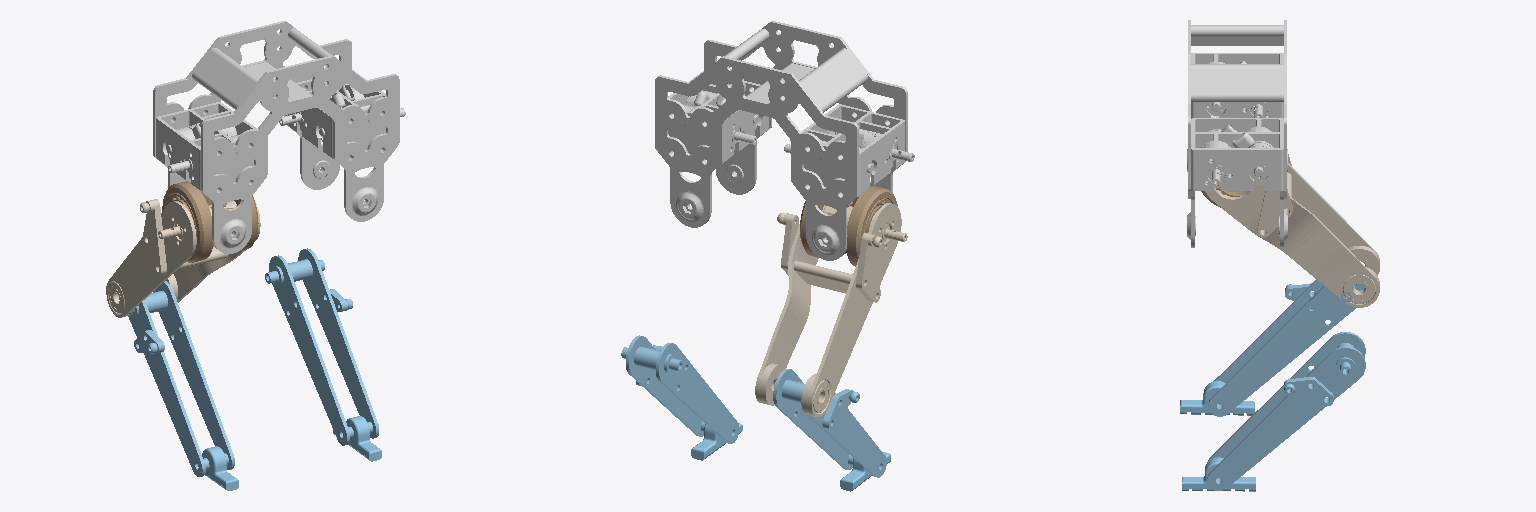
URDF robot description (urdf):
<?xml version="1.0" ?>
<!-- Generated using onshape-to-robot -->
<!-- Onshape document_id: 4743a97557c0a80d1585b0a7 / workspace_id: 2d6986bf76e2e55acb049bf2 -->
<robot name="urdf">
  <!-- Link trunk -->
  <link name="trunk">
    <inertial>
      <origin xyz="8.93209e-17 -0.0322521 -0.0255515" rpy="0 0 0"/>
      <mass value="0.50738"/>
      <inertia ixx="0.000361696" ixy="-6.30203e-08" ixz="-4.36525e-07" iyy="0.00154489" iyz="8.81145e-09" izz="0.00155102"/>
    </inertial>
    <!-- Part trunk_parts -->
    <visual>
      <origin xyz="8.46198e-17 -0.0322521 -0.0255515" rpy="0 -0 0"/>
      <geometry>
        <mesh filename="package://assets/merged/trunk_visual.stl"/>
      </geometry>
      <material name="trunk_parts_material">
        <color rgba="0.871891 0.871891 0.871891 1.0"/>
      </material>
    </visual>
    <collision>
      <origin xyz="8.46198e-17 -0.0322521 -0.0255515" rpy="0 -0 0"/>
      <geometry>
        <mesh filename="package://assets/merged/trunk_collision.stl"/>
      </geometry>
    </collision>
  </link>
  <!-- Link thigh_lower_mount -->
  <link name="thigh_lower_mount">
    <inertial>
      <origin xyz="-1.12935e-18 -1.75427e-05 -0.0275" rpy="0 0 0"/>
      <mass value="0.106222"/>
      <inertia ixx="4.98391e-05" ixy="2.1234e-20" ixz="-2.14174e-13" iyy="6.15836e-05" iyz="4.25849e-13" izz="4.69705e-05"/>
    </inertial>
    <!-- Part thigh_lower_mount_parts -->
    <visual>
      <origin xyz="0 -1.75427e-05 -0.0275" rpy="1.5708 -2.19958e-17 1.66533e-16"/>
      <geometry>
        <mesh filename="package://assets/merged/thigh_lower_mount_visual.stl"/>
      </geometry>
      <material name="thigh_lower_mount_parts_material">
        <color rgba="0.723602 0.631822 0.522985 1.0"/>
      </material>
    </visual>
    <collision>
      <origin xyz="0 -1.75427e-05 -0.0275" rpy="1.5708 -2.19958e-17 1.66533e-16"/>
      <geometry>
        <mesh filename="package://assets/merged/thigh_lower_mount_collision.stl"/>
      </geometry>
    </collision>
  </link>
  <!-- Link r_thigh -->
  <link name="r_thigh">
    <inertial>
      <origin xyz="0.000352109 -0.0299392 0.017919" rpy="0 0 0"/>
      <mass value="0.156403"/>
      <inertia ixx="0.000391219" ixy="-1.3488e-06" ixz="4.41349e-07" iyy="5.59838e-05" iyz="-6.40476e-07" izz="0.000353364"/>
    </inertial>
    <!-- Part r_thigh_parts -->
    <visual>
      <origin xyz="0.000352109 -0.0299392 0.017919" rpy="-2.23677 -1.5708 0"/>
      <geometry>
        <mesh filename="package://assets/merged/r_thigh_visual.stl"/>
      </geometry>
      <material name="r_thigh_parts_material">
        <color rgba="0.879627 0.839147 0.778342 1.0"/>
      </material>
    </visual>
    <collision>
      <origin xyz="0.000352109 -0.0299392 0.017919" rpy="-2.23677 -1.5708 0"/>
      <geometry>
        <mesh filename="package://assets/merged/r_thigh_collision.stl"/>
      </geometry>
    </collision>
  </link>
  <!-- Link r_knee -->
  <link name="r_knee">
    <inertial>
      <origin xyz="-0.00131403 -0.0427728 -0.0165918" rpy="0 0 0"/>
      <mass value="0.0251199"/>
      <inertia ixx="4.10878e-05" ixy="2.80016e-07" ixz="-4.81232e-07" iyy="4.83543e-06" iyz="6.08158e-07" izz="3.89368e-05"/>
    </inertial>
    <!-- Part r_knee_parts -->
    <visual>
      <origin xyz="-0.00131403 -0.0427728 -0.0165918" rpy="-0.66521 -1.56547 -0.0890774"/>
      <geometry>
        <mesh filename="package://assets/merged/r_knee_visual.stl"/>
      </geometry>
      <material name="r_knee_parts_material">
        <color rgba="0.632559 0.802889 0.905087 1.0"/>
      </material>
    </visual>
    <collision>
      <origin xyz="-0.00131403 -0.0427728 -0.0165918" rpy="-0.66521 -1.56547 -0.0890774"/>
      <geometry>
        <mesh filename="package://assets/merged/r_knee_collision.stl"/>
      </geometry>
    </collision>
  </link>
  <!-- Link foot -->
  <link name="foot">
    <inertial>
      <origin xyz="-8.30386e-08 -0.00450828 -0.005" rpy="0 0 0"/>
      <mass value="0.00685832"/>
      <inertia ixx="2.75437e-07" ixy="8.01075e-13" ixz="-5.40036e-13" iyy="9.89038e-07" iyz="1.74194e-14" izz="1.15532e-06"/>
    </inertial>
    <!-- Part foot_parts -->
    <visual>
      <origin xyz="-8.30386e-08 -0.00450828 -0.005" rpy="2.47638 1.56547 -2.25736"/>
      <geometry>
        <mesh filename="package://assets/merged/foot_visual.stl"/>
      </geometry>
      <material name="foot_parts_material">
        <color rgba="0.615686 0.811765 0.929412 1.0"/>
      </material>
    </visual>
    <collision>
      <origin xyz="-8.30386e-08 -0.00450828 -0.005" rpy="2.47638 1.56547 -2.25736"/>
      <geometry>
        <mesh filename="package://assets/merged/foot_collision.stl"/>
      </geometry>
    </collision>
  </link>
  <!-- Joint from r_knee to foot -->
  <joint name="r_ankle_passive" type="revolute">
    <origin xyz="-3.05311e-16 -0.12 -0.0195" rpy="3.14159 3.34686e-16 -2.34644"/>
    <parent link="r_knee"/>
    <child link="foot"/>
    <axis xyz="0 0 1"/>
    <limit effort="10" velocity="10" lower="-3.141592653589793" upper="3.141592653589793"/>
  </joint>
  <!-- Joint from r_thigh to r_knee -->
  <joint name="r_knee" type="revolute">
    <origin xyz="-1.40571e-06 -0.119866 0.032731" rpy="-0.000473435 -0.00530076 -1.48248"/>
    <parent link="r_thigh"/>
    <child link="r_knee"/>
    <axis xyz="0 0 1"/>
    <limit effort="10" velocity="10" lower="-3.141592653589793" upper="3.141592653589793"/>
  </joint>
  <!-- Joint from thigh_lower_mount to r_thigh -->
  <joint name="r_hip_pitch" type="revolute">
    <origin xyz="-0.023 4.16334e-17 -0.0275" rpy="-1.5708 -0.904819 -1.5708"/>
    <parent link="thigh_lower_mount"/>
    <child link="r_thigh"/>
    <axis xyz="0 0 1"/>
    <limit effort="10" velocity="10" lower="-3.141592653589793" upper="3.141592653589793"/>
  </joint>
  <!-- Joint from trunk to thigh_lower_mount -->
  <joint name="r_hip_roll" type="revolute">
    <origin xyz="-0.05175 -0.00475 -0.0806645" rpy="-1.5708 -1.66533e-16 -2.19958e-17"/>
    <parent link="trunk"/>
    <child link="thigh_lower_mount"/>
    <axis xyz="0 0 1"/>
    <limit effort="10" velocity="10" lower="-3.141592653589793" upper="3.141592653589793"/>
  </joint>
  <!-- Link thigh_lower_mount_2 -->
  <link name="thigh_lower_mount_2">
    <inertial>
      <origin xyz="-3.88721e-18 -1.75427e-05 -0.0275" rpy="0 0 0"/>
      <mass value="0.106222"/>
      <inertia ixx="4.98391e-05" ixy="-2.54261e-20" ixz="-2.14174e-13" iyy="6.15836e-05" iyz="4.25849e-13" izz="4.69705e-05"/>
    </inertial>
    <!-- Part thigh_lower_mount_2_parts -->
    <visual>
      <origin xyz="-6.93889e-18 -1.75427e-05 -0.0275" rpy="1.5708 3.42011e-15 3.14157"/>
      <geometry>
        <mesh filename="package://assets/merged/thigh_lower_mount_2_visual.stl"/>
      </geometry>
      <material name="thigh_lower_mount_2_parts_material">
        <color rgba="0.723602 0.631822 0.522985 1.0"/>
      </material>
    </visual>
    <collision>
      <origin xyz="-6.93889e-18 -1.75427e-05 -0.0275" rpy="1.5708 3.42011e-15 3.14157"/>
      <geometry>
        <mesh filename="package://assets/merged/thigh_lower_mount_2_collision.stl"/>
      </geometry>
    </collision>
  </link>
  <!-- Link l_thigh -->
  <link name="l_thigh">
    <inertial>
      <origin xyz="-0.000312941 -0.0299249 0.017919" rpy="0 0 0"/>
      <mass value="0.156403"/>
      <inertia ixx="0.000391424" ixy="1.07541e-06" ixz="-5.04975e-07" iyy="5.59166e-05" iyz="-6.63694e-07" izz="0.000353502"/>
    </inertial>
    <!-- Part l_thigh_parts -->
    <visual>
      <origin xyz="-0.000312941 -0.0299249 0.017919" rpy="-3.62318e-12 1.57078 2.21925"/>
      <geometry>
        <mesh filename="package://assets/merged/l_thigh_visual.stl"/>
      </geometry>
      <material name="l_thigh_parts_material">
        <color rgba="0.879627 0.839147 0.778342 1.0"/>
      </material>
    </visual>
    <collision>
      <origin xyz="-0.000312941 -0.0299249 0.017919" rpy="-3.62318e-12 1.57078 2.21925"/>
      <geometry>
        <mesh filename="package://assets/merged/l_thigh_collision.stl"/>
      </geometry>
    </collision>
  </link>
  <!-- Link l_knee -->
  <link name="l_knee">
    <inertial>
      <origin xyz="0.00122988 -0.0428518 -0.016707" rpy="0 0 0"/>
      <mass value="0.0251199"/>
      <inertia ixx="4.11528e-05" ixy="-2.3273e-07" ixz="4.94116e-07" iyy="4.86011e-06" iyz="5.96743e-07" izz="3.88399e-05"/>
    </inertial>
    <!-- Part l_knee_parts -->
    <visual>
      <origin xyz="0.00122988 -0.0428518 -0.016707" rpy="-0.647036 1.56546 0.137365"/>
      <geometry>
        <mesh filename="package://assets/merged/l_knee_visual.stl"/>
      </geometry>
      <material name="l_knee_parts_material">
        <color rgba="0.632559 0.802889 0.905087 1.0"/>
      </material>
    </visual>
    <collision>
      <origin xyz="0.00122988 -0.0428518 -0.016707" rpy="-0.647036 1.56546 0.137365"/>
      <geometry>
        <mesh filename="package://assets/merged/l_knee_collision.stl"/>
      </geometry>
    </collision>
  </link>
  <!-- Link foot_2 -->
  <link name="foot_2">
    <inertial>
      <origin xyz="-8.30386e-08 -0.00450828 -0.005" rpy="0 0 0"/>
      <mass value="0.00685832"/>
      <inertia ixx="2.75437e-07" ixy="8.01075e-13" ixz="-5.40036e-13" iyy="9.89038e-07" iyz="1.74194e-14" izz="1.15532e-06"/>
    </inertial>
    <!-- Part foot_2_parts -->
    <visual>
      <origin xyz="-8.30386e-08 -0.00450828 -0.005" rpy="2.49456 -1.56546 2.22226"/>
      <geometry>
        <mesh filename="package://assets/merged/foot_2_visual.stl"/>
      </geometry>
      <material name="foot_2_parts_material">
        <color rgba="0.615686 0.811765 0.929412 1.0"/>
      </material>
    </visual>
    <collision>
      <origin xyz="-8.30386e-08 -0.00450828 -0.005" rpy="2.49456 -1.56546 2.22226"/>
      <geometry>
        <mesh filename="package://assets/merged/foot_2_collision.stl"/>
      </geometry>
    </collision>
  </link>
  <!-- Joint from l_knee to foot_2 -->
  <joint name="l_ankle_passive" type="revolute">
    <origin xyz="4.44089e-16 -0.12 -0.0195" rpy="-3.14159 -1.73512e-15 2.35962"/>
    <parent link="l_knee"/>
    <child link="foot_2"/>
    <axis xyz="0 0 1"/>
    <limit effort="10" velocity="10" lower="-3.141592653589793" upper="3.141592653589793"/>
  </joint>
  <!-- Joint from l_thigh to l_knee -->
  <joint name="l_knee" type="revolute">
    <origin xyz="-1.40571e-06 -0.119866 0.032731" rpy="-0.000717208 0.00527331 1.43485"/>
    <parent link="l_thigh"/>
    <child link="l_knee"/>
    <axis xyz="0 0 1"/>
    <limit effort="10" velocity="10" lower="-3.141592653589793" upper="3.141592653589793"/>
  </joint>
  <!-- Joint from thigh_lower_mount_2 to l_thigh -->
  <joint name="l_hip_pitch" type="revolute">
    <origin xyz="-0.023 2.77556e-17 -0.0275" rpy="-1.5708 0.922339 -1.5708"/>
    <parent link="thigh_lower_mount_2"/>
    <child link="l_thigh"/>
    <axis xyz="0 0 1"/>
    <limit effort="10" velocity="10" lower="-3.141592653589793" upper="3.141592653589793"/>
  </joint>
  <!-- Joint from trunk to thigh_lower_mount_2 -->
  <joint name="l_hip_roll" type="revolute">
    <origin xyz="0.05175 -0.00475 -0.0806645" rpy="1.5708 -1.9322e-05 -3.14159"/>
    <parent link="trunk"/>
    <child link="thigh_lower_mount_2"/>
    <axis xyz="0 0 1"/>
    <limit effort="10" velocity="10" lower="-3.141592653589793" upper="3.141592653589793"/>
  </joint>
</robot>

--- Facts derived from the render (not from the file) ---
Views: 3 orthographic renders of the robot side by side, from view 1: azimuth 30°, elevation 25°; view 2: azimuth 150°, elevation 25°; view 3: azimuth 270°, elevation 25°.
Model urdf with 9 links and 8 joints (8 revolute), rooted at trunk, posed every joint at zero.
Visible links, largest first — view 1: trunk, l_knee, r_thigh, r_knee, thigh_lower_mount, foot, foot_2; view 2: trunk, r_thigh, l_knee, r_knee, thigh_lower_mount, foot_2, foot; view 3: trunk, r_thigh, l_knee, r_knee, foot, foot_2.
Boxes of the visible links, x1,y1,x2,y2 form: trunk: [153, 21, 405, 253]; l_knee: [265, 248, 378, 445]; r_thigh: [106, 188, 260, 317]; r_knee: [124, 281, 234, 476]; thigh_lower_mount: [162, 181, 258, 262]; foot: [202, 446, 238, 490]; foot_2: [333, 416, 381, 461]; trunk: [655, 21, 914, 260]; r_thigh: [755, 201, 907, 416]; l_knee: [621, 335, 738, 443]; r_knee: [773, 369, 886, 477]; thigh_lower_mount: [800, 186, 897, 266]; foot_2: [691, 423, 742, 460]; foot: [840, 452, 890, 491]; trunk: [1187, 20, 1287, 247]; r_thigh: [1205, 154, 1379, 307]; l_knee: [1207, 332, 1365, 490]; r_knee: [1208, 279, 1364, 416]; foot: [1180, 381, 1254, 415]; foot_2: [1182, 457, 1255, 491].
Size in the robot's own frame: 0.1846 by 0.1342 by 0.3084 metres.
Meshes: 9 distinct files referenced, 7 mesh visuals loaded (7 binary STL); not drawn: 2 (reference not matched to a file when rendering).